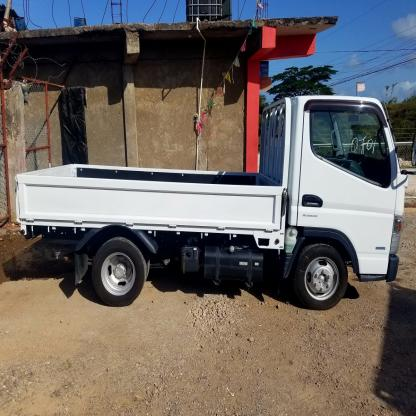truck: (16, 95, 407, 307)
